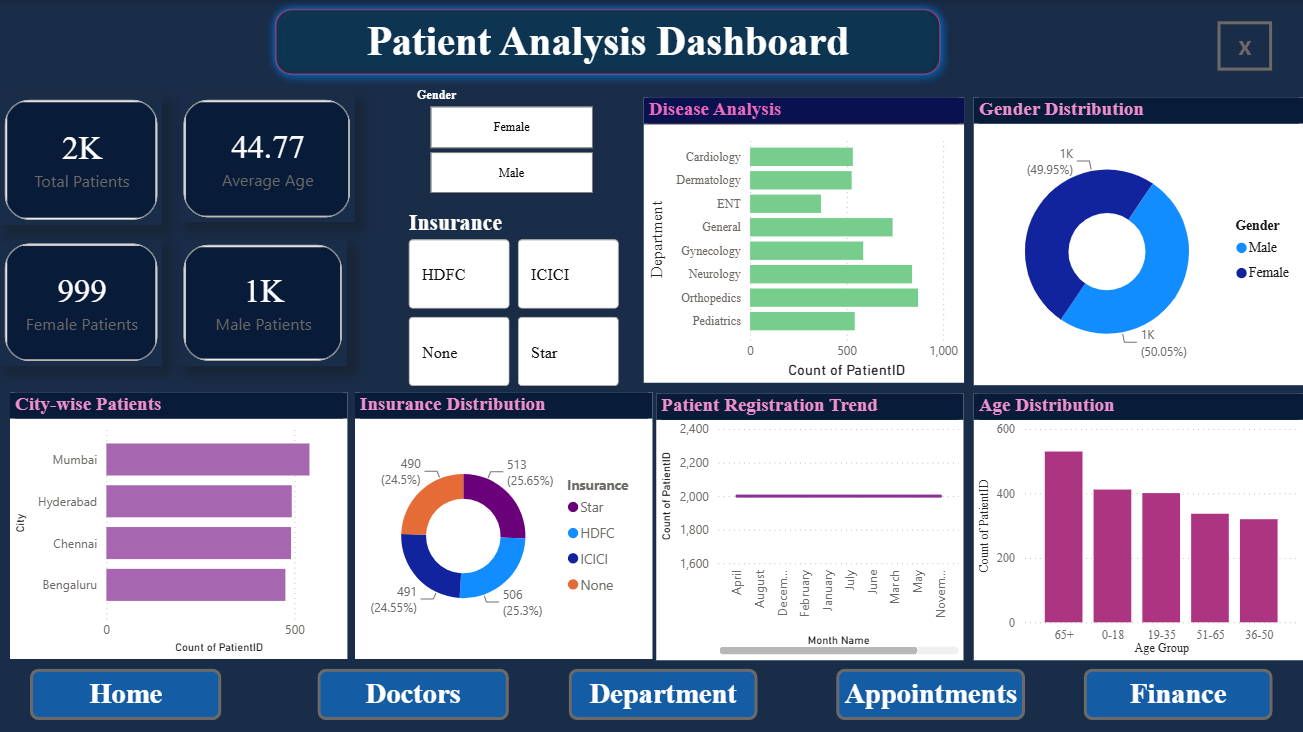

This screenshot's page, from the dashboard's own definition file:
{"tool":"powerbi","page":{"name":"Patient Analytics","canvas":[1280,720],"ordinal":1},"visuals":[{"type":"shape","box":[260.8,0,670.6,82.2],"z":0},{"type":"cardVisual","fields":{"Data":["Patients.Total Patients"]},"box":[0,93.3,159.5,127.6],"z":1000},{"type":"cardVisual","fields":{"Data":["Appointments.Average Age"]},"box":[175.5,93.3,173,125.2],"z":2000},{"type":"cardVisual","fields":{"Data":["Appointments.Male Patients"]},"box":[175.5,235.6,165.6,123.9],"z":3000},{"type":"cardVisual","fields":{"Data":["Appointments.Female Patients"]},"box":[0,234.4,159.5,125.2],"z":4000},{"type":"lineChart","title":"Patient Registration Trend","fields":{"Category":["Appointments.Month Name"],"Y":["CountNonNull(Patients.PatientID)"]},"box":[644.2,386.5,301.8,261.4],"z":5000},{"type":"donutChart","title":"Gender Distribution","fields":{"Category":["Patients.Gender"],"Y":["CountNonNull(Patients.PatientID)"]},"box":[955.8,95.7,323.9,282.2],"z":6000},{"type":"clusteredColumnChart","title":"Age Distribution","fields":{"Category":["Patients.Age Group"],"Y":["CountNonNull(Patients.PatientID)"]},"box":[955.8,386.5,323.9,261.4],"z":7000},{"type":"donutChart","title":"Insurance Distribution","fields":{"Category":["Patients.Insurance"],"Y":["CountNonNull(Patients.PatientID)"]},"box":[348.5,385.3,292,261.4],"z":8000},{"type":"clusteredBarChart","title":"City-wise Patients","fields":{"Category":["Patients.City"],"Y":["CountNonNull(Patients.PatientID)"]},"box":[9.8,385.3,331.3,261.4],"z":9000},{"type":"actionButton","box":[29.4,656.4,187.7,50.3],"z":10000},{"type":"actionButton","box":[311.7,656.4,187.7,50.3],"z":11000},{"type":"actionButton","box":[558.3,656.4,185.3,50.3],"z":12000},{"type":"actionButton","box":[820.9,656.4,185.3,50.3],"z":13000},{"type":"actionButton","box":[1063.8,656.4,185.3,50.3],"z":14000},{"type":"actionButton","title":"clear","box":[1194.8,20.8,53.7,48.5],"z":15000},{"type":"clusteredBarChart","title":"Disease Analysis","fields":{"Category":["Appointments.Department"],"Y":["CountNonNull(Appointments.PatientID)"]},"box":[631.9,95.7,314.1,279.8],"z":16000},{"type":"slicer","fields":{"Values":["Patients.Gender"]},"box":[396.3,82.2,209.8,114.1],"z":17000},{"type":"advancedSlicerVisual","fields":{"Values":["Patients.Insurance"]},"box":[396.3,206.1,217.2,179.1],"z":18000}]}

Visuals, with their boxes in screenshot pixels (x1, y1, x2, y2), scaled from the page's 1280x720 canvas onto the 1303x732 screenshot:
shape: {"left": 265, "top": 0, "right": 948, "bottom": 84}
cardVisual - Patients.Total Patients: {"left": 0, "top": 95, "right": 162, "bottom": 225}
cardVisual - Appointments.Average Age: {"left": 179, "top": 95, "right": 355, "bottom": 222}
cardVisual - Appointments.Male Patients: {"left": 179, "top": 240, "right": 347, "bottom": 365}
cardVisual - Appointments.Female Patients: {"left": 0, "top": 238, "right": 162, "bottom": 366}
"Patient Registration Trend" lineChart: {"left": 656, "top": 393, "right": 963, "bottom": 659}
"Gender Distribution" donutChart: {"left": 973, "top": 97, "right": 1302, "bottom": 384}
"Age Distribution" clusteredColumnChart: {"left": 973, "top": 393, "right": 1302, "bottom": 659}
"Insurance Distribution" donutChart: {"left": 355, "top": 392, "right": 652, "bottom": 657}
"City-wise Patients" clusteredBarChart: {"left": 10, "top": 392, "right": 347, "bottom": 657}
actionButton: {"left": 30, "top": 667, "right": 221, "bottom": 718}
actionButton: {"left": 317, "top": 667, "right": 508, "bottom": 718}
actionButton: {"left": 568, "top": 667, "right": 757, "bottom": 718}
actionButton: {"left": 836, "top": 667, "right": 1024, "bottom": 718}
actionButton: {"left": 1083, "top": 667, "right": 1272, "bottom": 718}
"clear" actionButton: {"left": 1216, "top": 21, "right": 1271, "bottom": 70}
"Disease Analysis" clusteredBarChart: {"left": 643, "top": 97, "right": 963, "bottom": 382}
slicer - Patients.Gender: {"left": 403, "top": 84, "right": 617, "bottom": 200}
advancedSlicerVisual - Patients.Insurance: {"left": 403, "top": 210, "right": 625, "bottom": 392}
